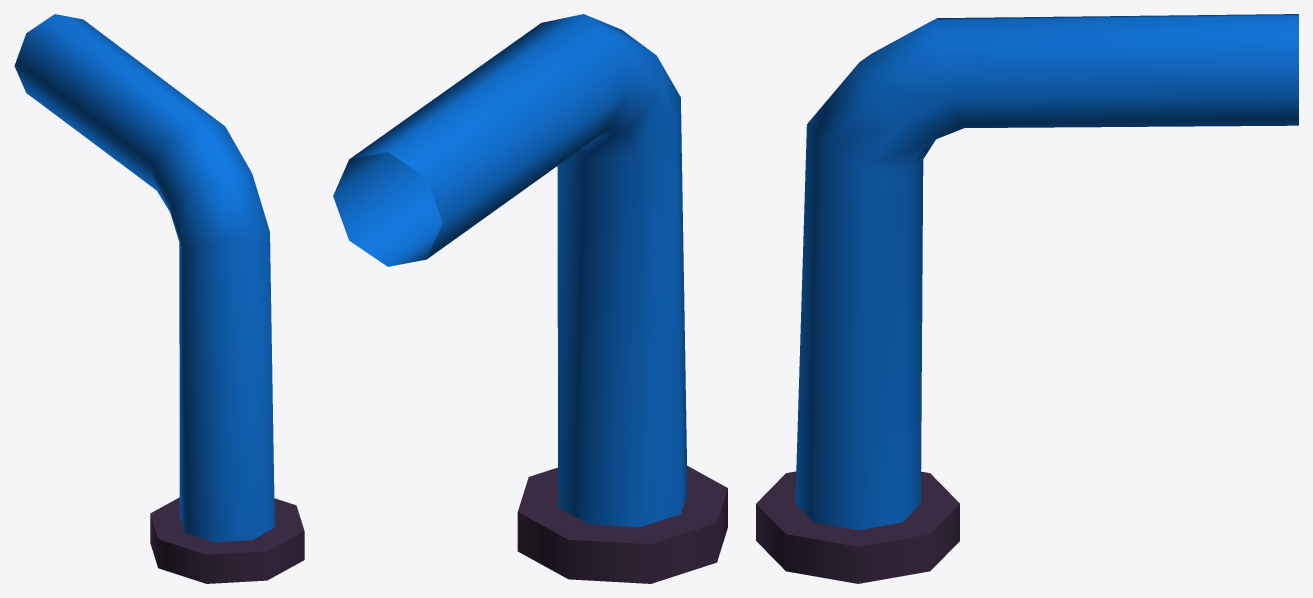
The model's file is Tap_Corner_.fbx.
The picture shows the model from 3 angles, left to right: view 1: azimuth 30°, elevation 25°; view 2: azimuth 150°, elevation 25°; view 3: azimuth 270°, elevation 25°; orthographic projection. The views are drawn at different scales.
Visible parts, largest first — view 1: Cylinder017; view 2: Cylinder017; view 3: Cylinder017.
Boxes of the visible parts, box(x1,y1,x2,y2) form: Cylinder017: box(14, 14, 304, 583); Cylinder017: box(333, 14, 727, 583); Cylinder017: box(756, 14, 1298, 583).
Bounding box in the file's own units: 0.1093 × 0.3101 × 0.2906.
